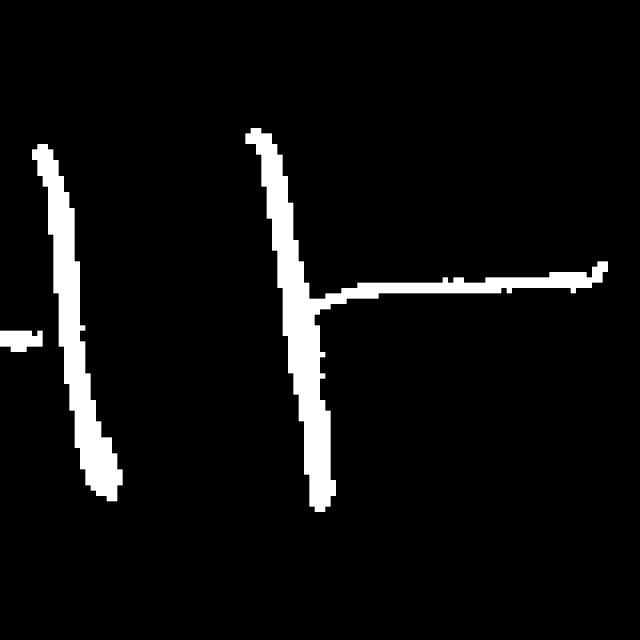capacitor: (24, 122, 342, 523)
